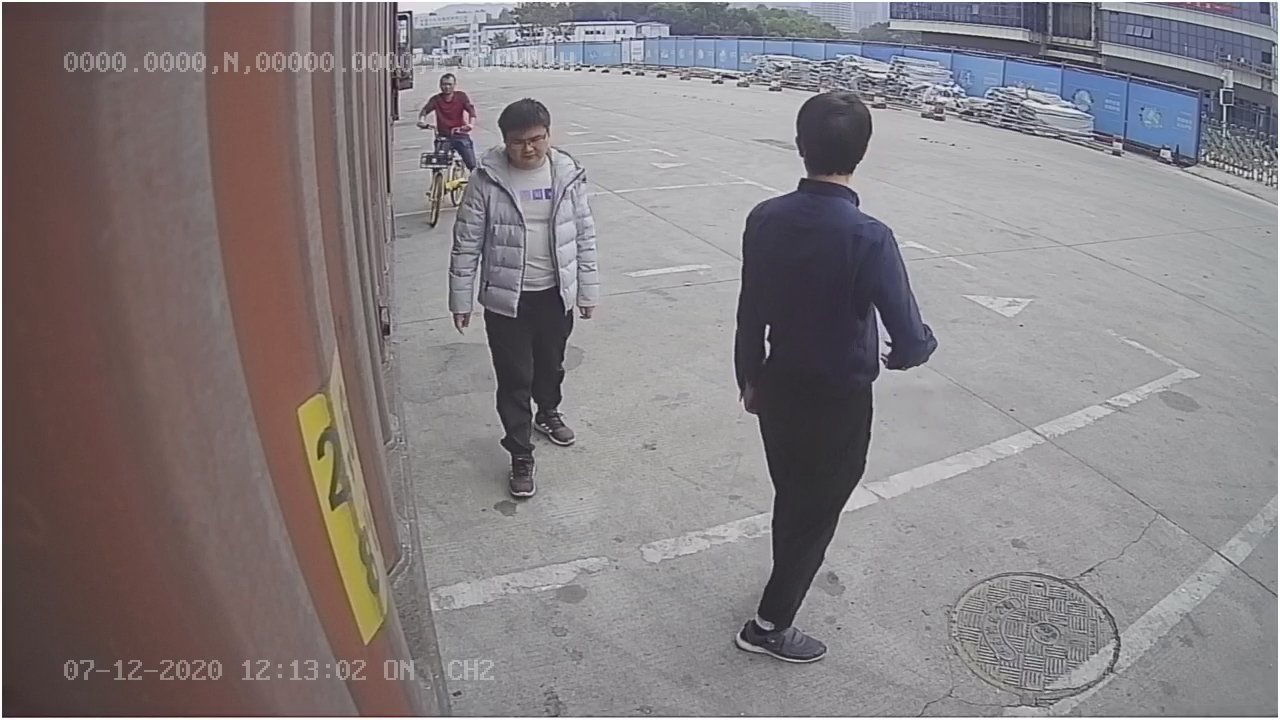person: (733, 78, 936, 660)
